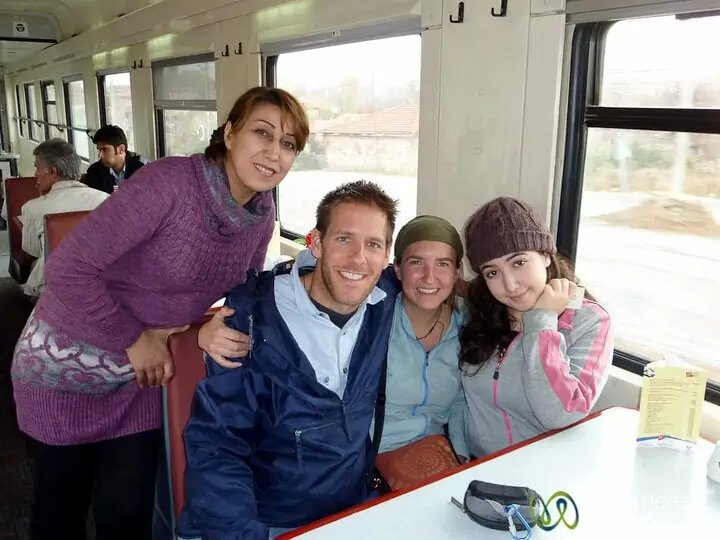without_mask: (325, 211, 384, 301), (243, 109, 300, 193), (479, 250, 543, 309), (402, 247, 452, 306)
